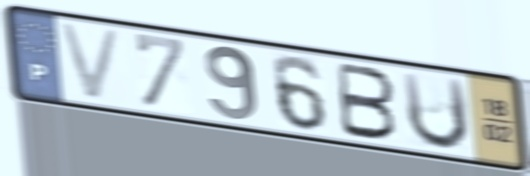6: (268, 53, 330, 134)
7: (132, 29, 188, 111)
9: (201, 43, 262, 123)
B: (335, 59, 400, 143)
U: (397, 68, 472, 153)
V: (54, 18, 127, 105)
